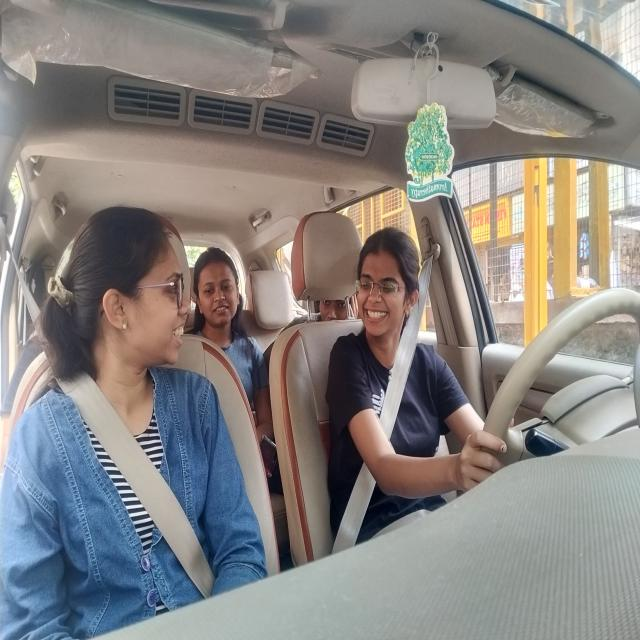LeftRight: (356, 220, 424, 369)
person: (69, 206, 197, 398), (187, 246, 246, 350), (308, 299, 348, 323)
talking: (170, 314, 188, 351), (364, 304, 389, 328)
